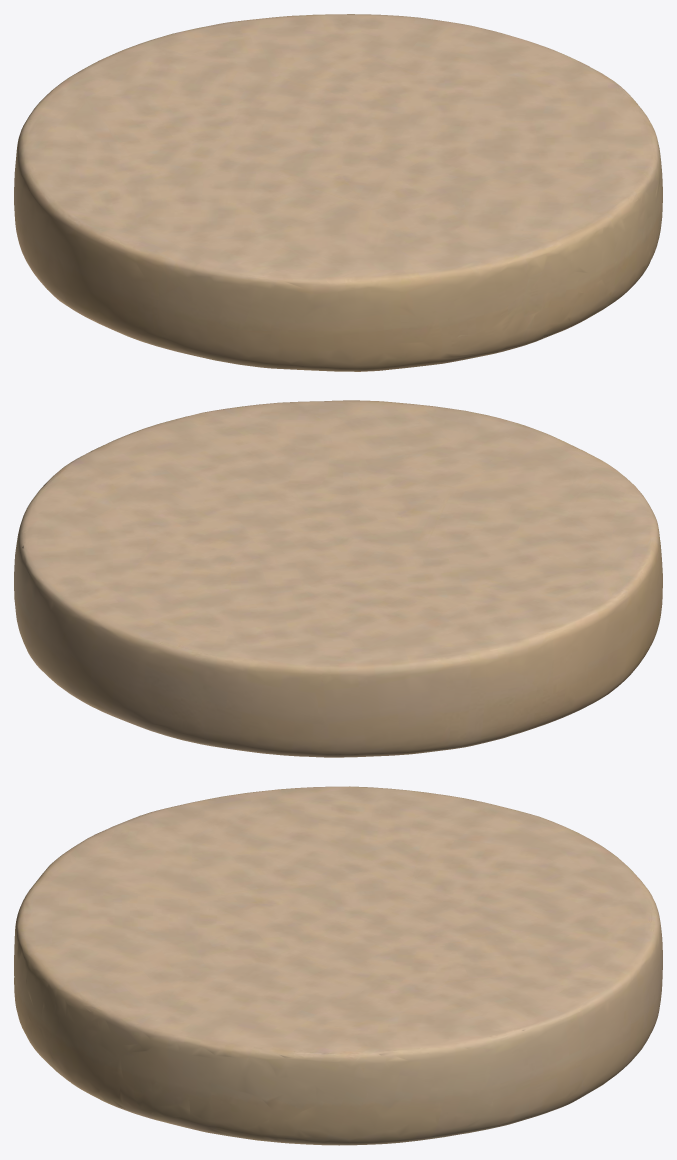
The model's file is masu-base.glb.
The picture shows the model from 3 angles, top to bottom: view 1: azimuth 30°, elevation 25°; view 2: azimuth 150°, elevation 25°; view 3: azimuth 270°, elevation 25°; orthographic projection.
Visible parts, largest first — view 1: Mesh_0; view 2: Mesh_0; view 3: Mesh_0.
Part boxes in pixels (bbox=[...]): Mesh_0: bbox=[14, 14, 662, 371]; Mesh_0: bbox=[14, 400, 662, 757]; Mesh_0: bbox=[14, 786, 662, 1145].
Size of the model in its own units: 2 by 0.3285 by 2.
1 material, 1 textured.
